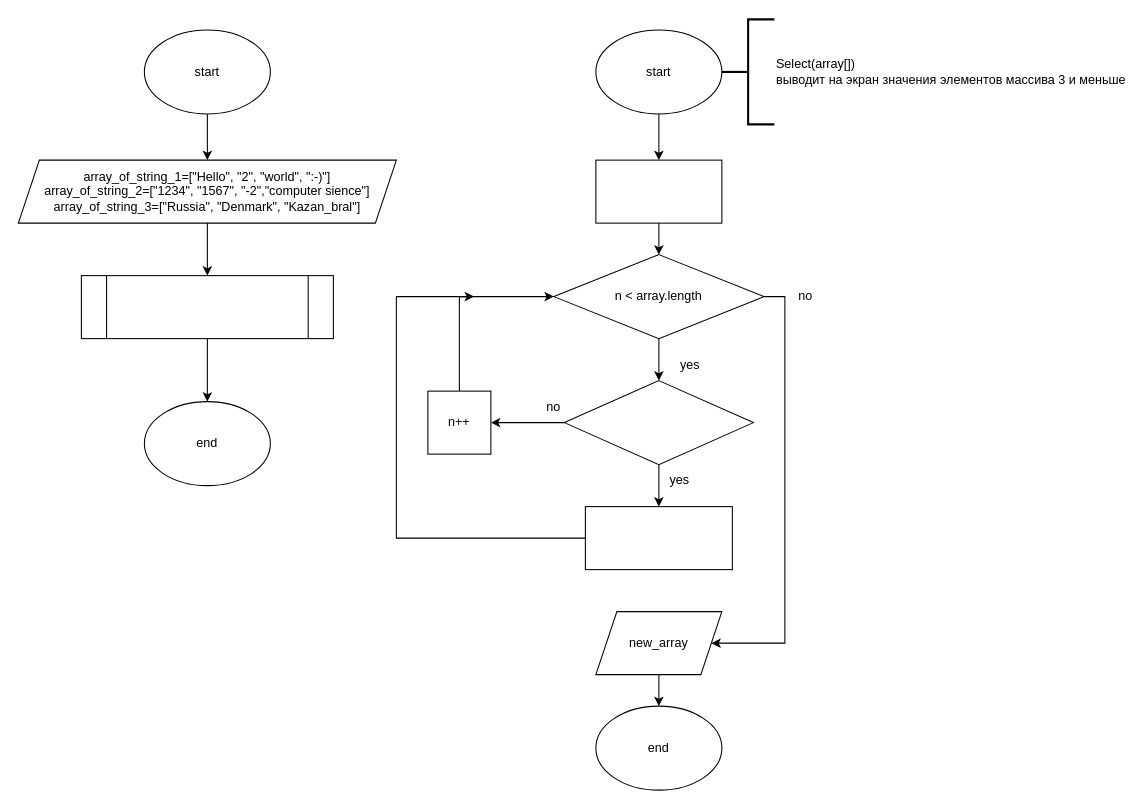
Image size: 1145x808. Some labels were removed from this diagram. Each missing label, with the centre of its shape:
array[n].length <= 3: point 658,422
n = 0 new_array[] = 0 i = 0: point 658,191
new_array[i] = array[n] i++ n++: point 658,538
Select(array_of_string_1) Select(array_of_string_2) Select(array_of_string_3): point 206,307
